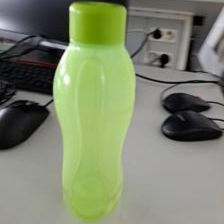bottle: (55, 3, 136, 220)
